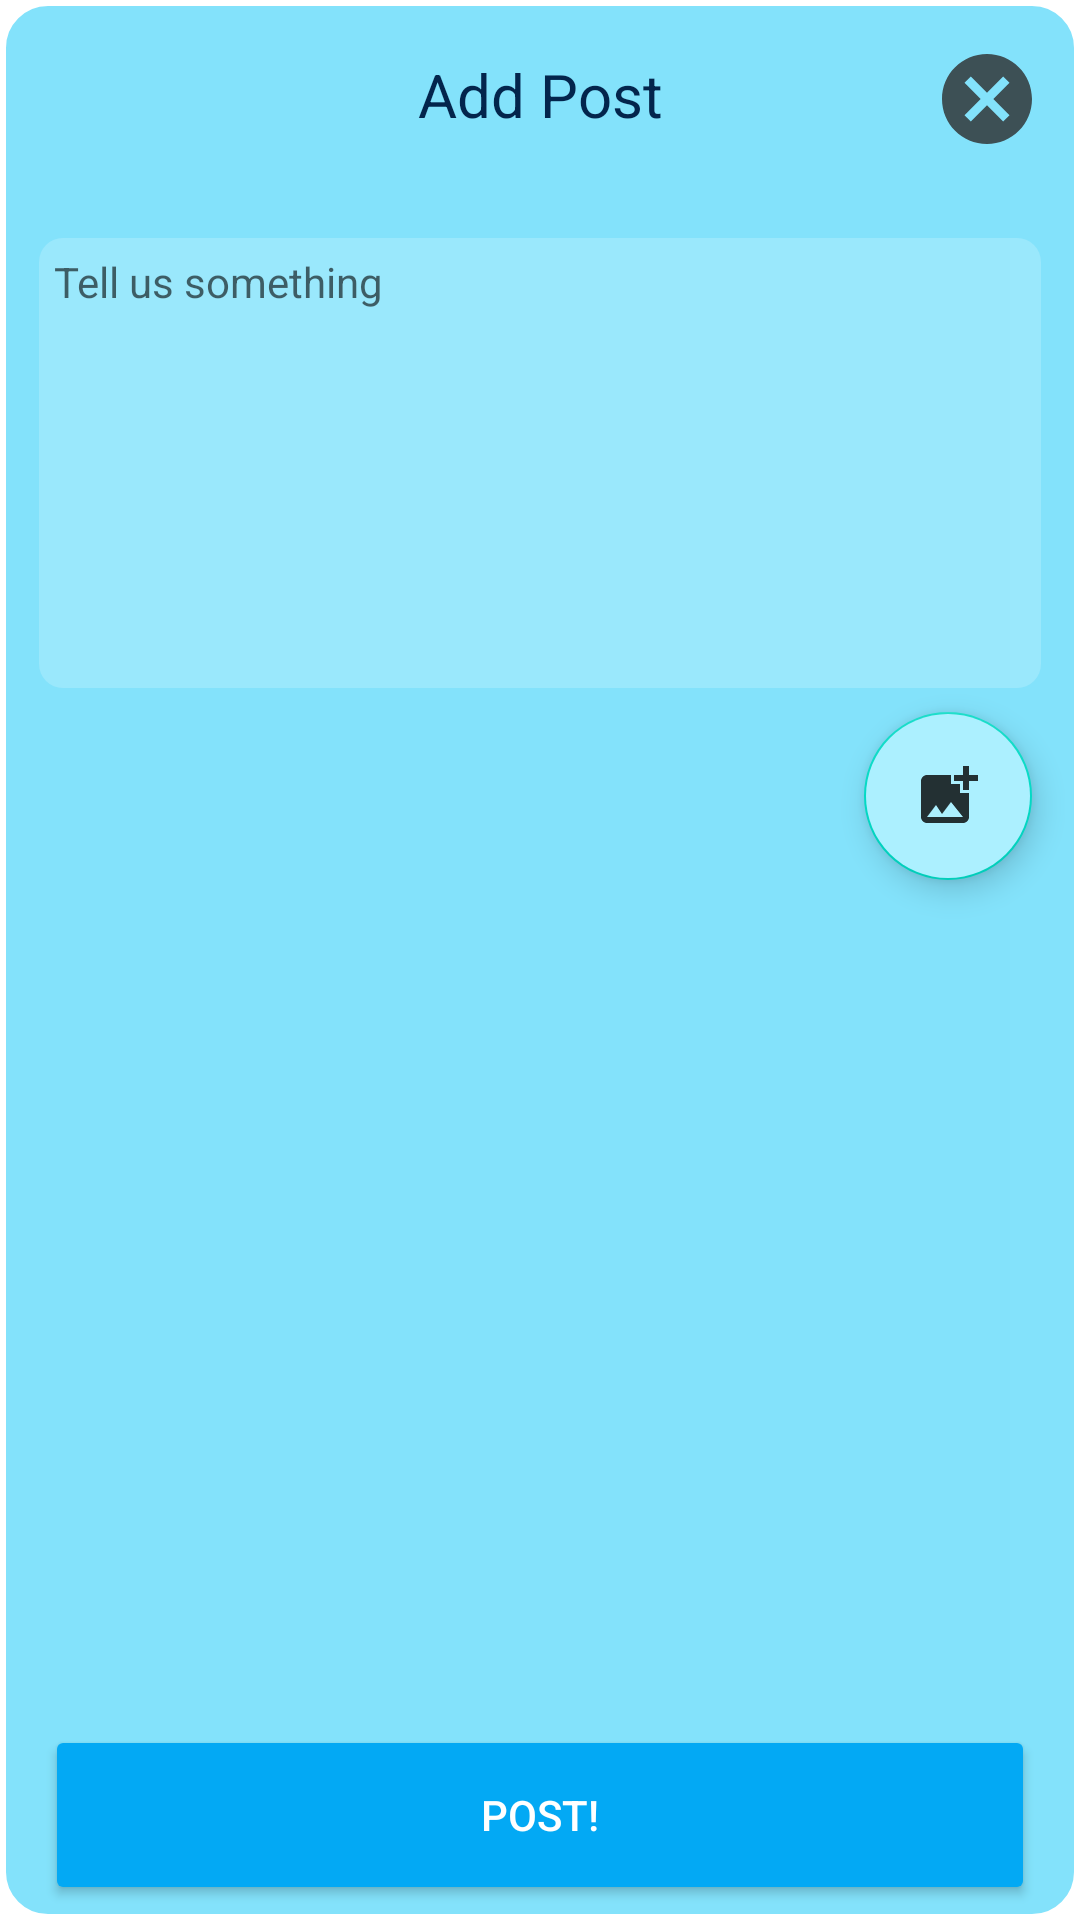

Icons on this 1080 × 1920 Android screen, each with its box as (left=x1, top=y1, right=x2, bottom=y2):
add: (left=864, top=712, right=1032, bottom=880)
exit: (left=942, top=54, right=1032, bottom=144)
